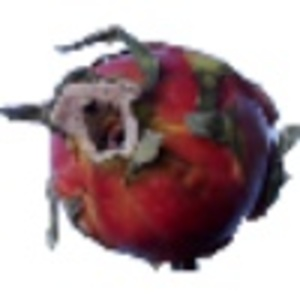pitaia: (1, 27, 300, 273)
